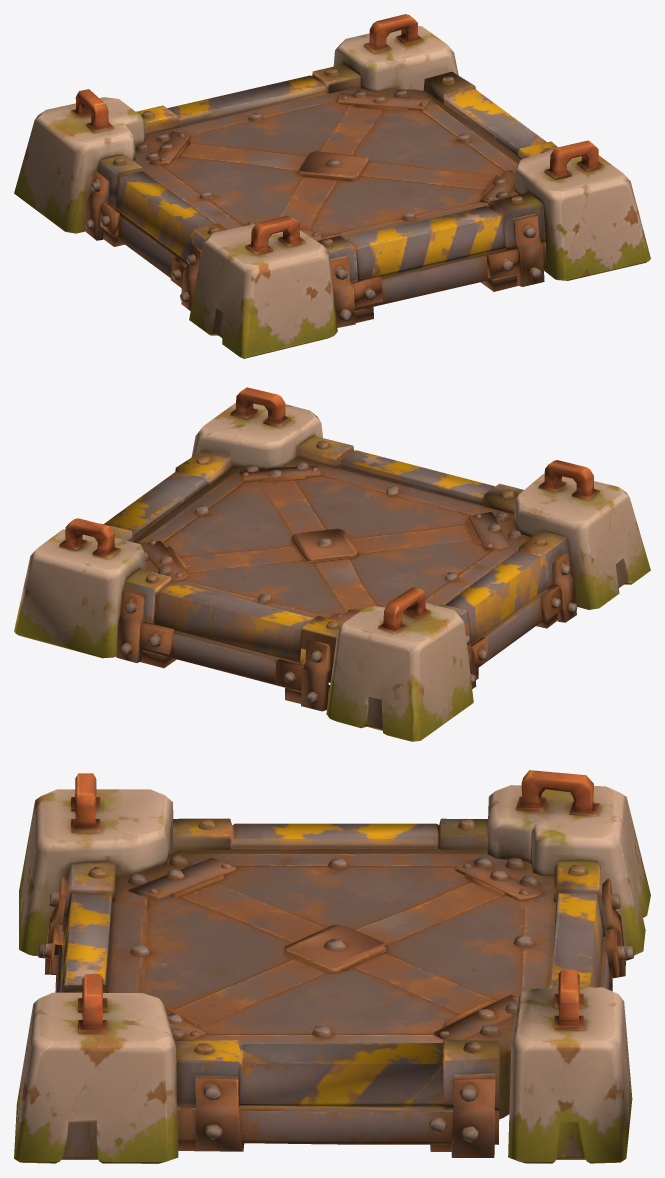
File: CC_Base_TowerSlot.fbx
3 views of the same model, one above another, from view 1: azimuth 30°, elevation 25°; view 2: azimuth 150°, elevation 25°; view 3: azimuth 270°, elevation 25° (orthographic). The views are drawn at different scales.
Parts seen in each view (by area): view 1: CC_Base_TowerSlot_LOD0; view 2: CC_Base_TowerSlot_LOD0; view 3: CC_Base_TowerSlot_LOD0.
Part boxes in pixels (bbox=[...]): CC_Base_TowerSlot_LOD0: bbox=[14, 14, 650, 358]; CC_Base_TowerSlot_LOD0: bbox=[14, 387, 650, 741]; CC_Base_TowerSlot_LOD0: bbox=[14, 770, 650, 1163].
Size of what is drawn, in the model's own units: 1.14 by 0.2989 by 1.13.
